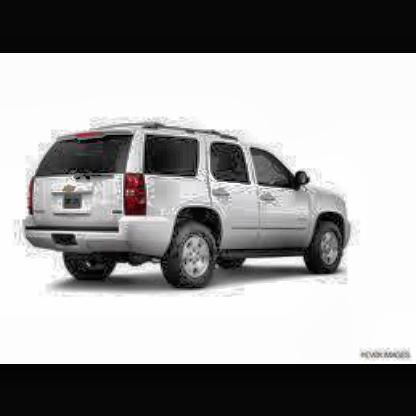Chevrolet Tahoe Hybrid SUV 2012: (23, 122, 355, 293)
